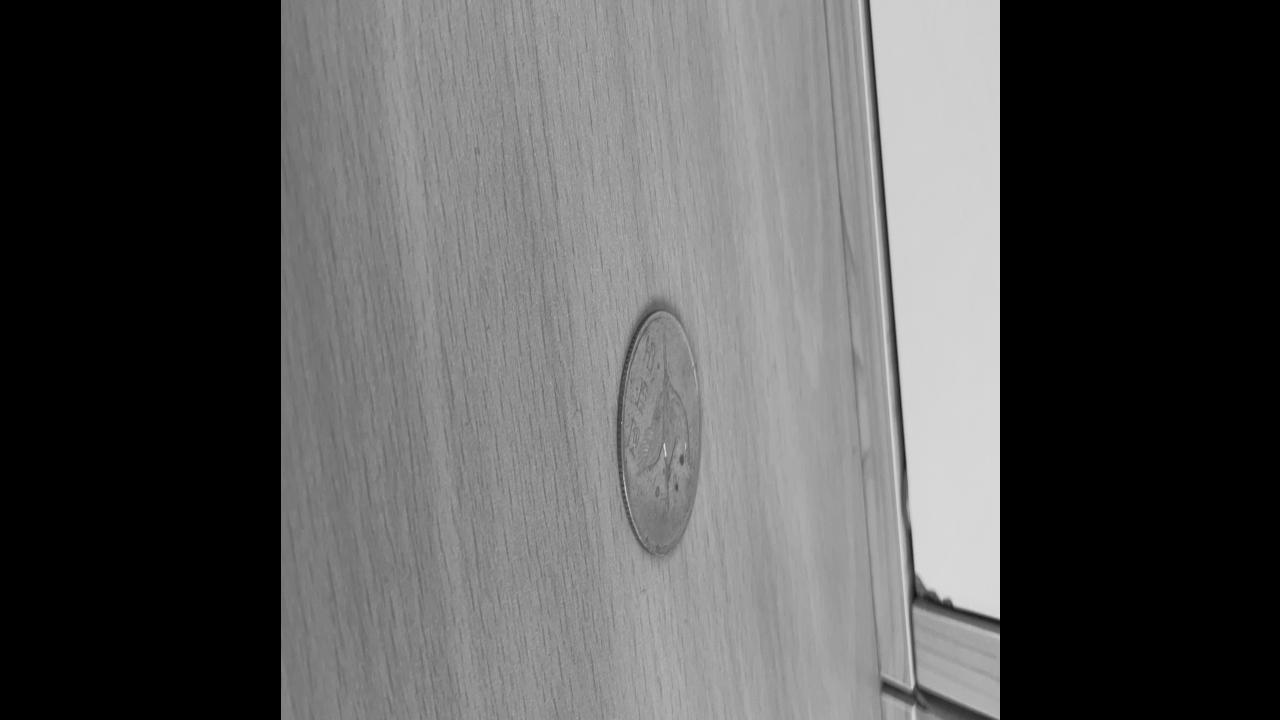coin: (617, 305, 702, 560)
